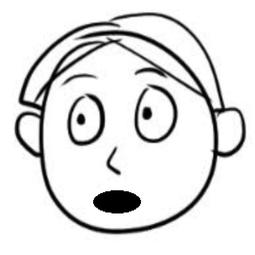ear: (210, 100, 249, 162), (11, 107, 50, 162)
eye: (131, 81, 179, 147), (64, 90, 107, 146)
eyebrow: (129, 64, 168, 81), (60, 72, 99, 85)
open_mouth: (84, 182, 153, 217)
pointy_nose: (103, 145, 125, 177)
